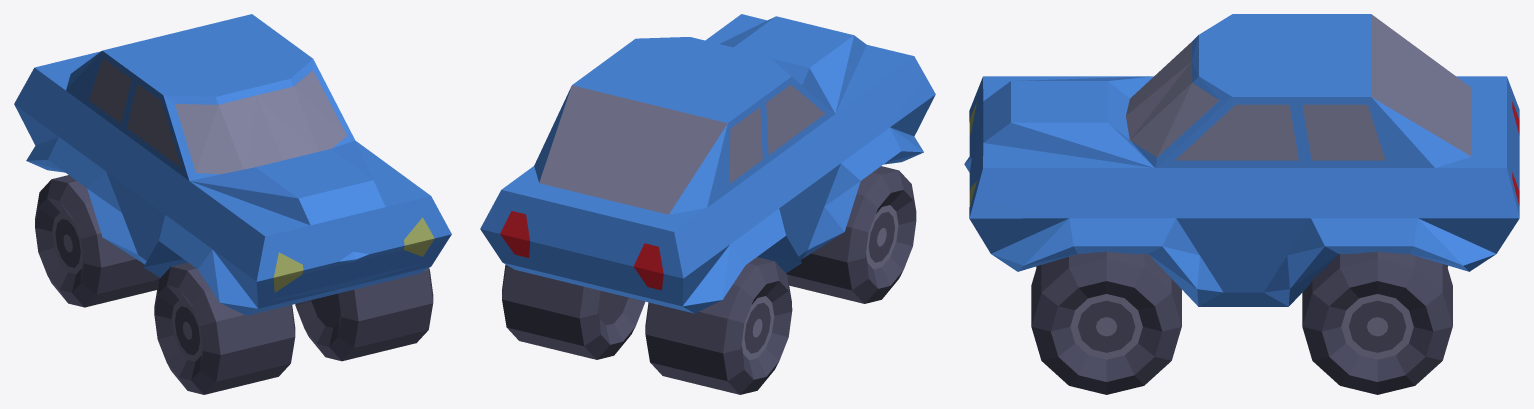
The model's file is Car_Blue.fbx.
3 renders of one model, left to right at view 1: azimuth 30°, elevation 25°; view 2: azimuth 150°, elevation 25°; view 3: azimuth 270°, elevation 25°, orthographic. The views are drawn at different scales.
Parts seen in each view (by area): view 1: Car_Blue; view 2: Car_Blue; view 3: Car_Blue.
Part boxes in pixels (bbox=[...]): Car_Blue: bbox=[14, 14, 451, 394]; Car_Blue: bbox=[480, 14, 935, 394]; Car_Blue: bbox=[964, 14, 1519, 394].
Bounding box in the file's own units: 108 × 111 × 199.
